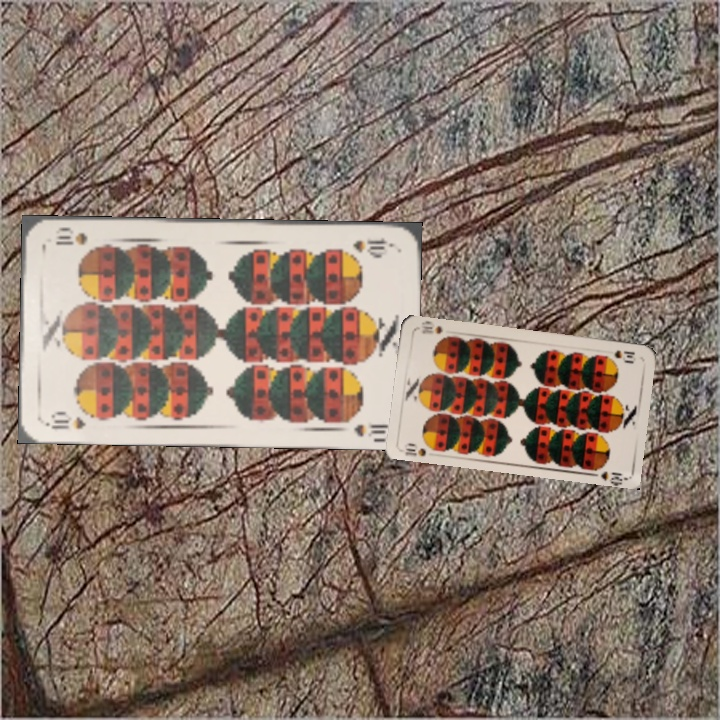S10: (43, 408, 88, 432), (349, 234, 395, 256), (401, 439, 439, 459), (610, 346, 638, 364)
